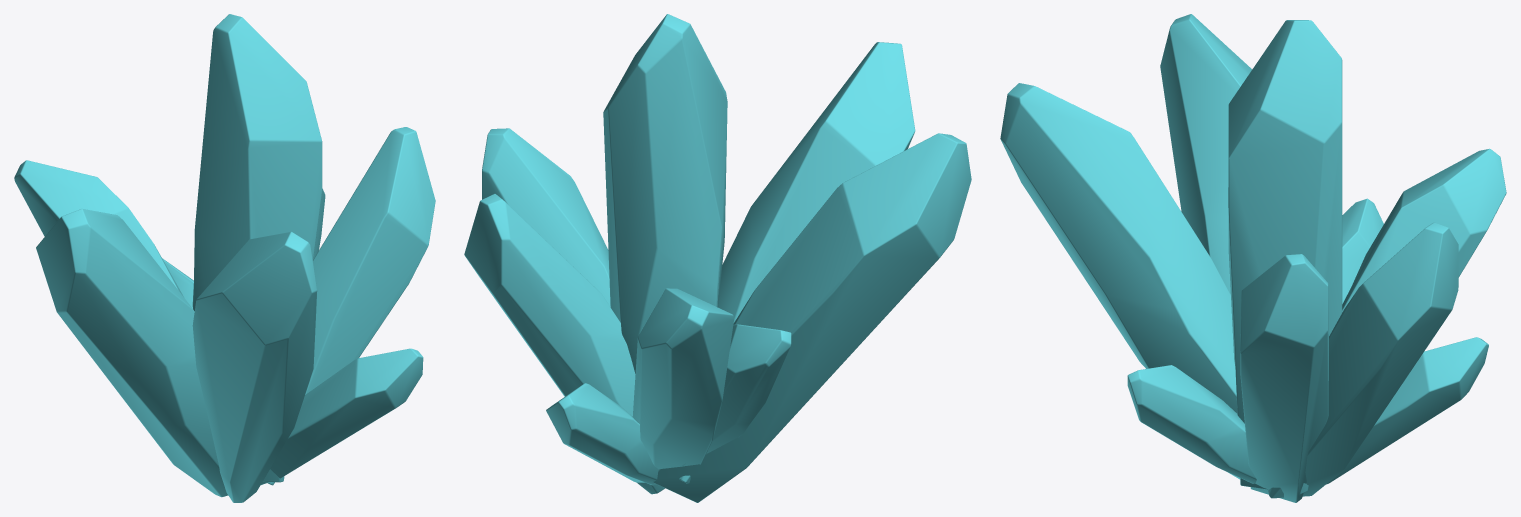
The model's file is uploads_files_3226439_crystal.glb.
3 views of the same model, side by side, from view 1: azimuth 30°, elevation 25°; view 2: azimuth 150°, elevation 25°; view 3: azimuth 270°, elevation 25° (orthographic). The views are drawn at different scales.
Parts seen in each view (by area): view 1: Cube; view 2: Cube; view 3: Cube.
Part boxes in pixels (x1=…): Cube: x1=14, y1=14, x2=435, y2=502; Cube: x1=464, y1=14, x2=971, y2=502; Cube: x1=1000, y1=14, x2=1506, y2=502.
Size of the model in its own units: 8.52 by 9.29 by 8.91.
